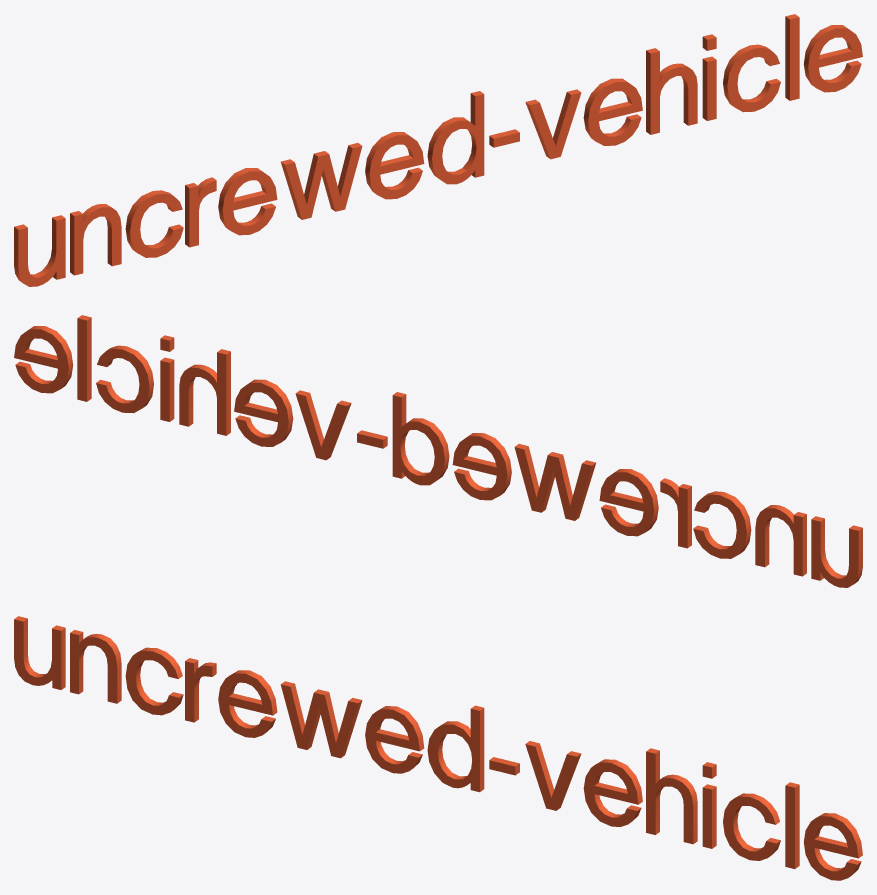
The model's file is uncrewed-vehicle.fbx.
The picture shows the model from 3 angles, top to bottom: view 1: azimuth 30°, elevation 25°; view 2: azimuth 150°, elevation 25°; view 3: azimuth 330°, elevation 25°; orthographic projection.
Visible parts, largest first — view 1: Text; view 2: Text; view 3: Text.
Boxes of the visible parts, bbox=[...] form: Text: bbox=[14, 14, 862, 286]; Text: bbox=[14, 315, 862, 587]; Text: bbox=[14, 616, 862, 880].
Size of the model in its own units: 11 by 1.04 by 0.1.
